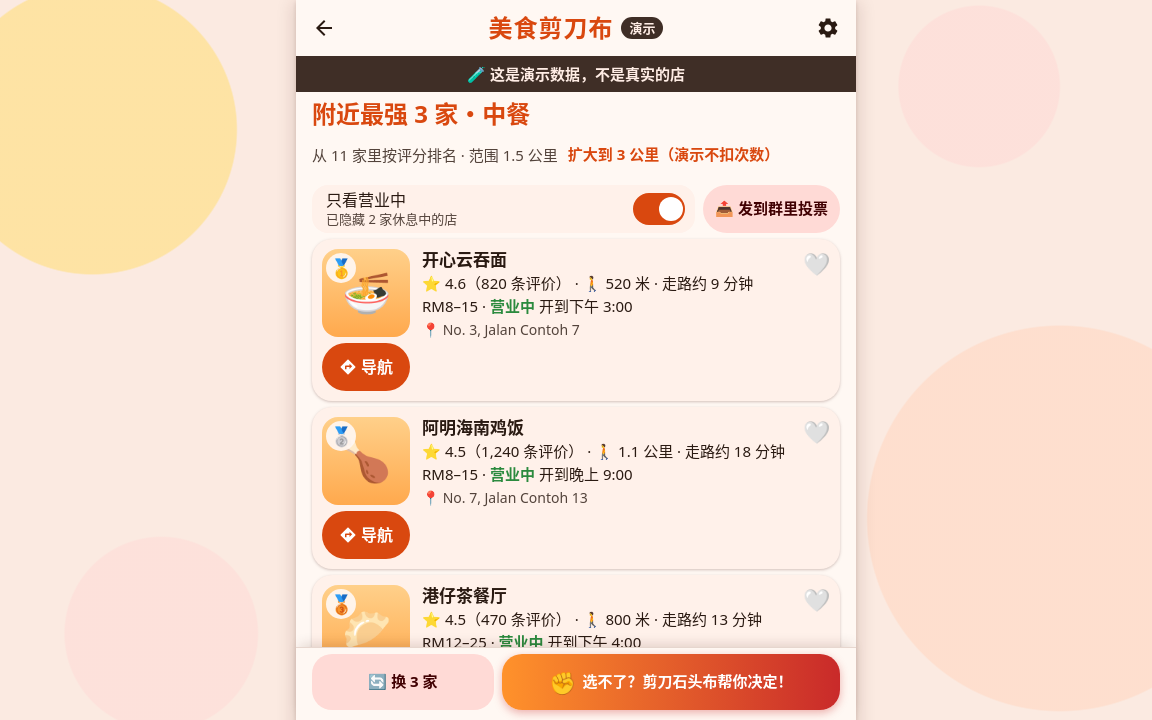
结果页（功能清单第十一节） › RESULTS-11 换 3 家 → 附近第 4–6 名；到最后一页「回到前 3 名」+「已经看完全部 N 家」；从不重新搜索
This screenshot has width=1152, height=720.
Click the button "🔄 换 3 家".
click(403, 682)  # box [312,654,494,710]
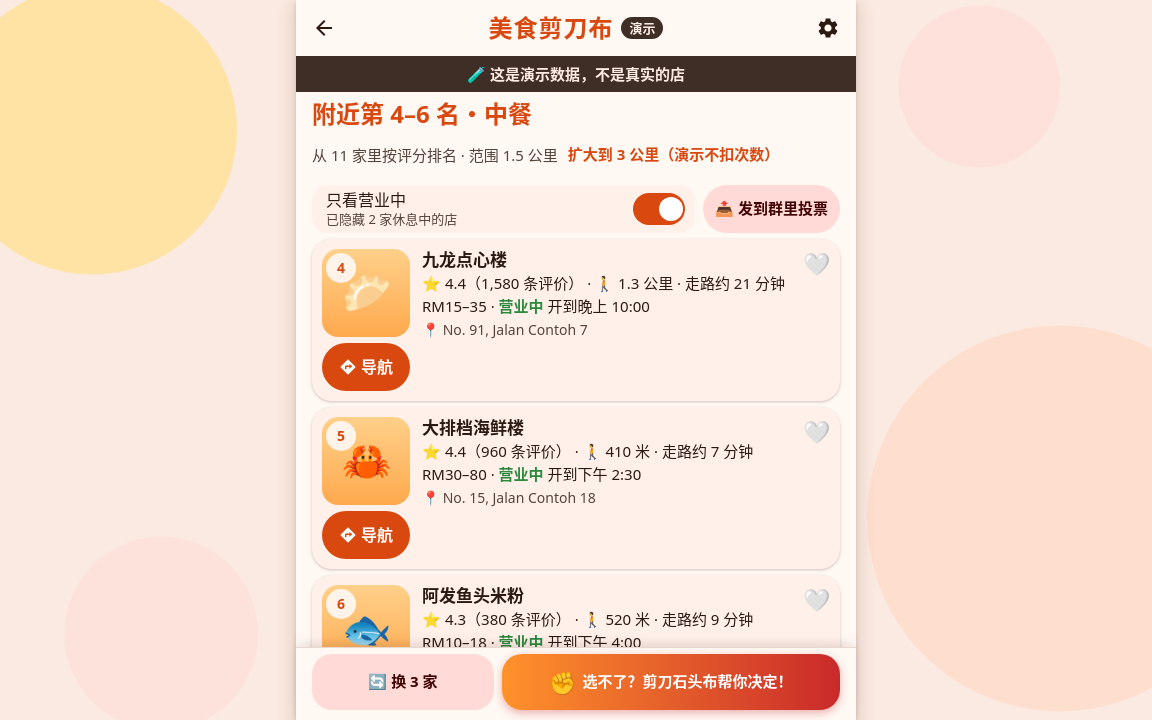
expect the heading "附近第 4–6 名・ 中餐" is shown: met, box [312,97,532,130]
Click the button "🔄 换 3 家".
click(403, 682)  # box [312,654,494,710]
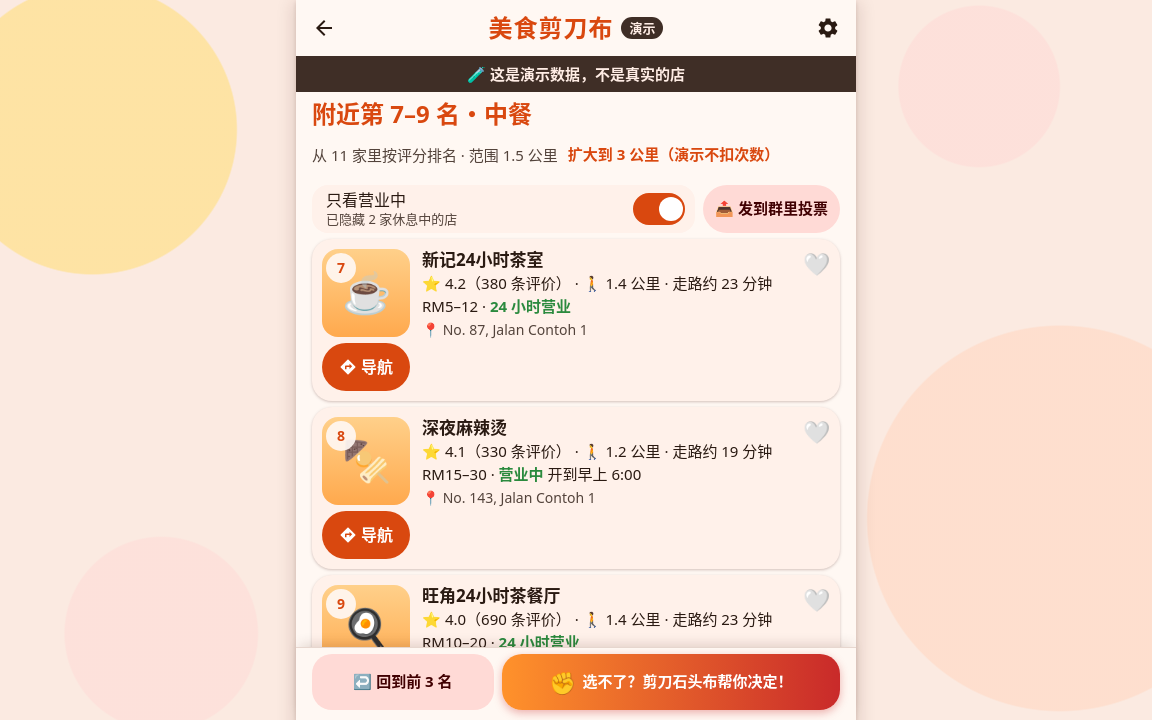
Click the button "↩️ 回到前 3 名".
click(403, 682)  # box [312,654,494,710]
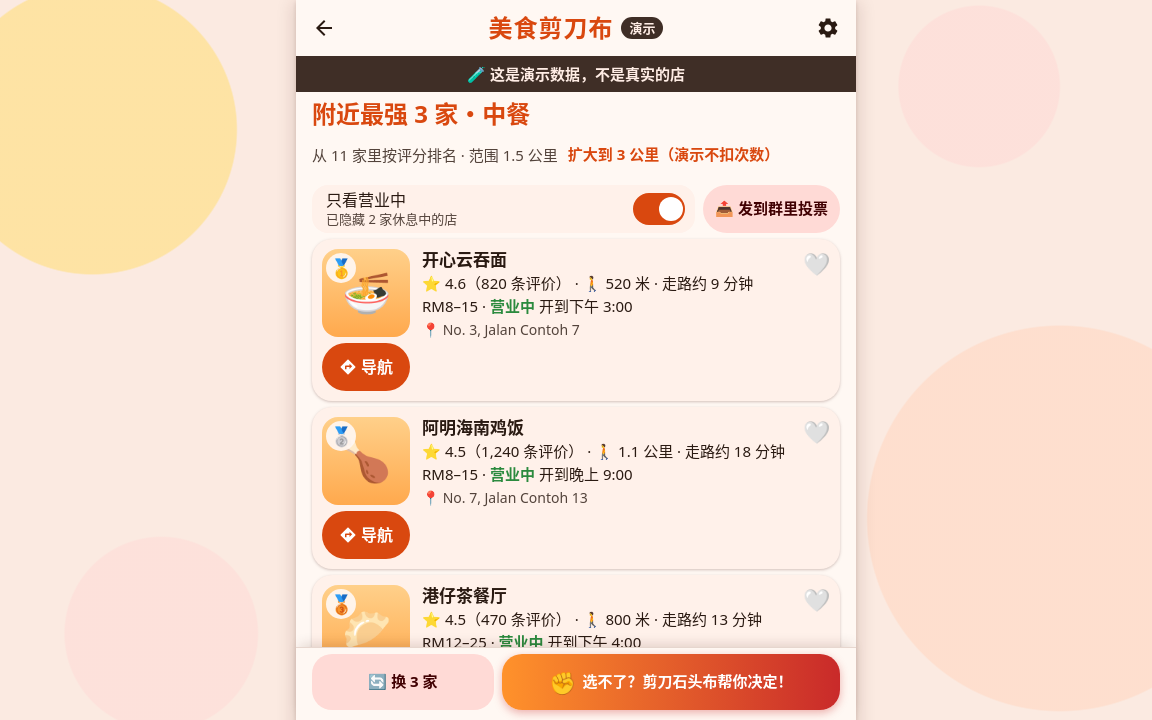
expect the heading "附近最强 3 家・ 中餐" is shown: met, box [312,97,530,130]
